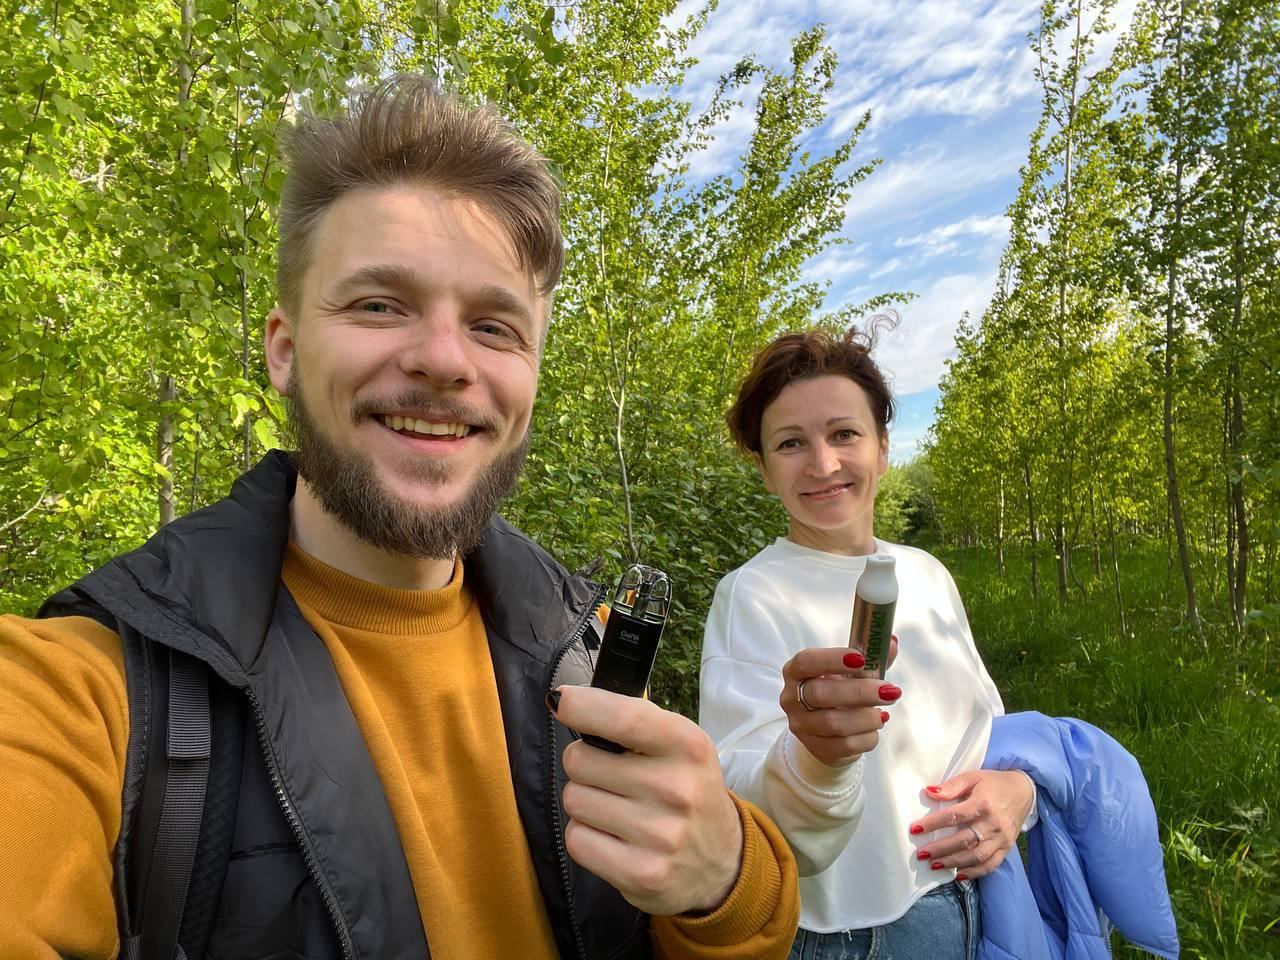Vape: (592, 564, 671, 697), (849, 552, 898, 679)
